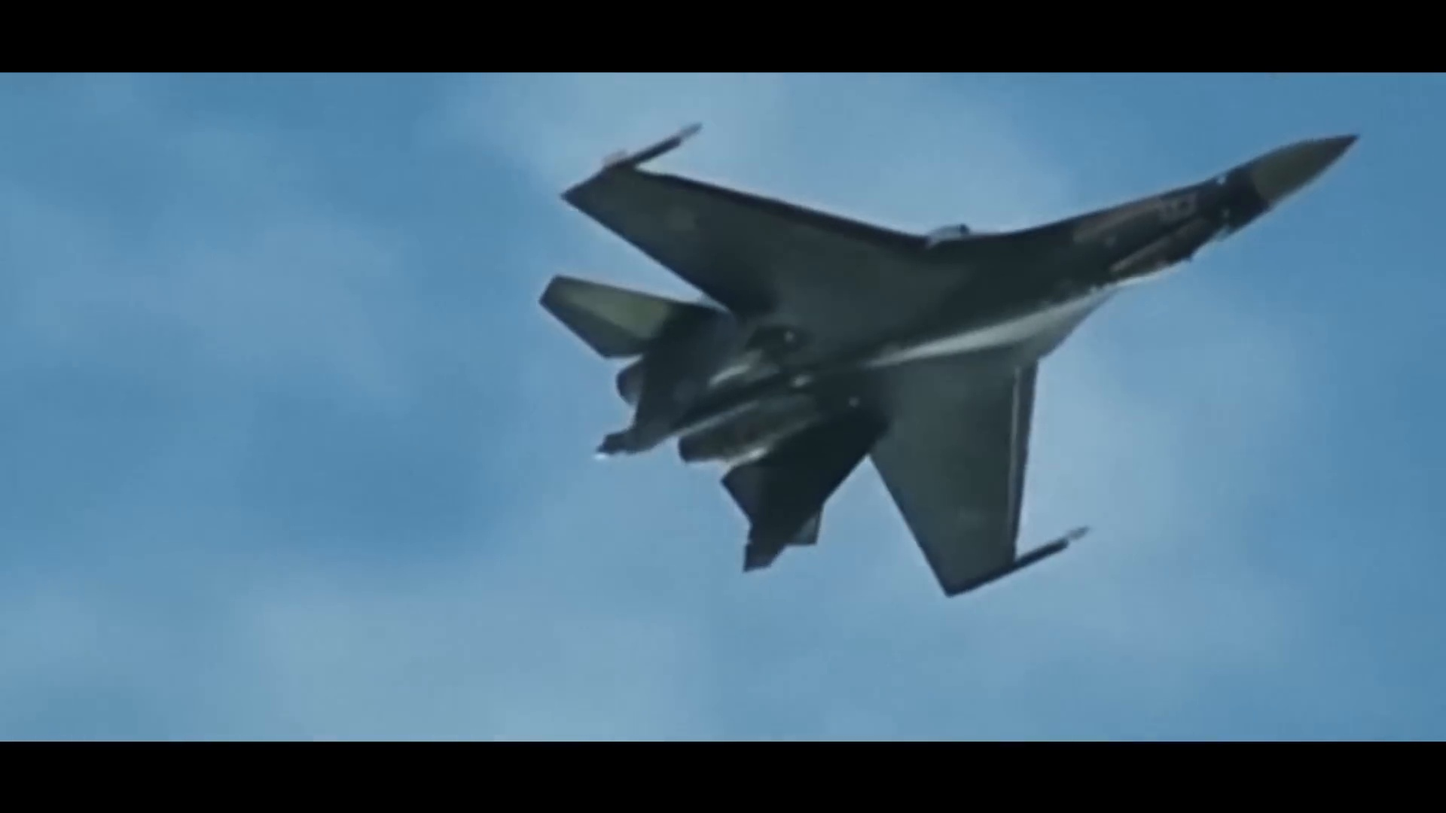Su35: (536, 124, 1360, 596)
